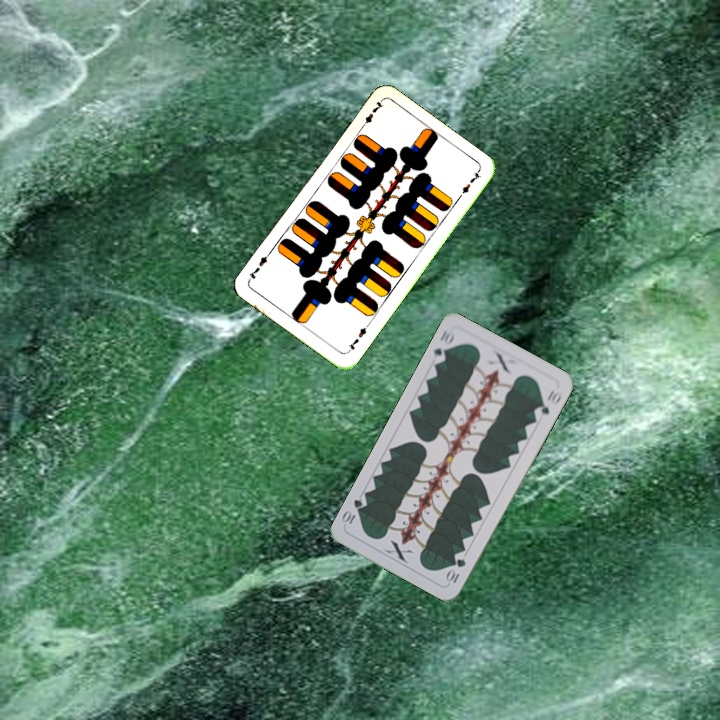E7: (343, 320, 371, 355), (357, 97, 385, 132)
G10: (429, 326, 457, 366), (442, 554, 469, 586)
